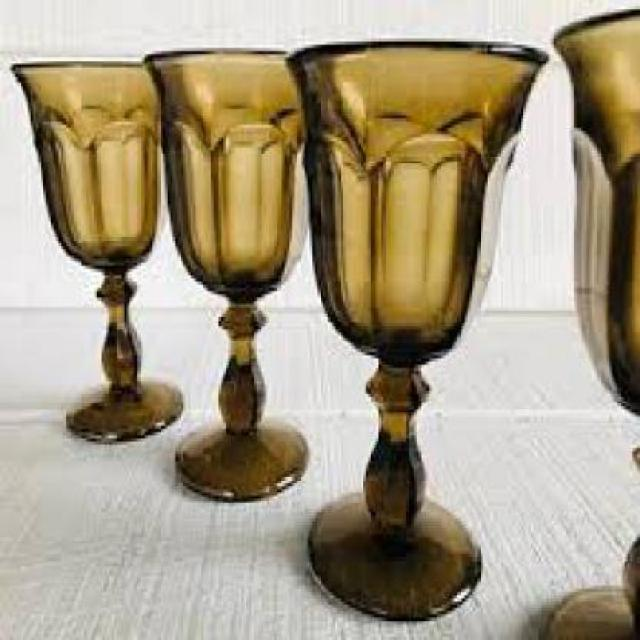kaca: (284, 38, 548, 617), (142, 48, 328, 500), (8, 57, 180, 441), (537, 6, 638, 637)
